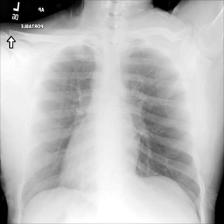normal: (19, 42, 205, 207)
